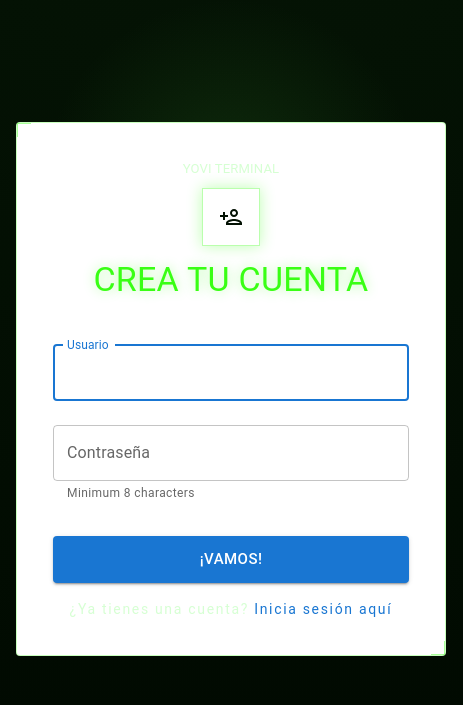
RegisterForm › submits and displays success response
Type "Pablo" into the field labelled "Usuario" at coordinates (231, 373), box [53,345,409,401]
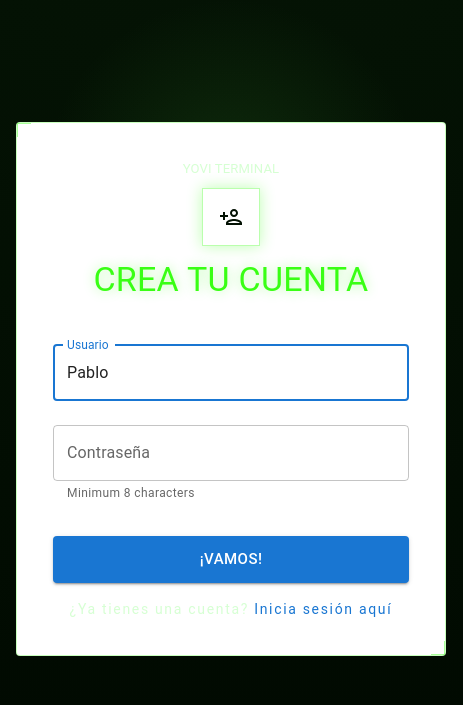
Type "password123" into the password field labelled "Contraseña" at coordinates (231, 453), box [53,425,409,481]
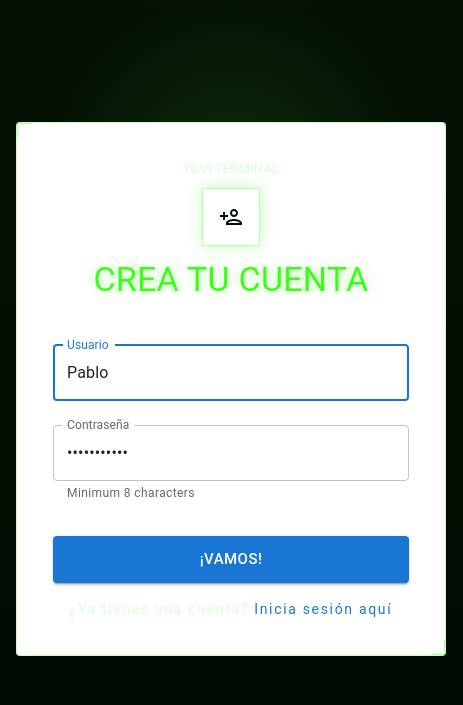
Click the button "¡Vamos!" at coordinates (231, 559), box [53,536,409,583]
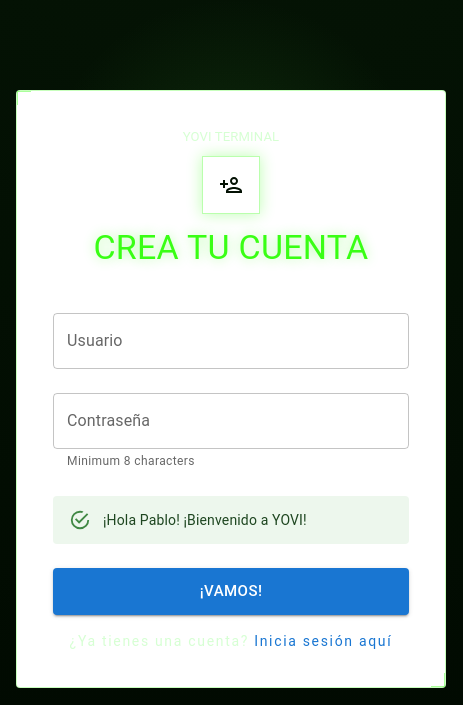
Now the text "¡Hola Pablo! ¡Bienvenido a YOVI!" is shown, box [103,512,307,528]
